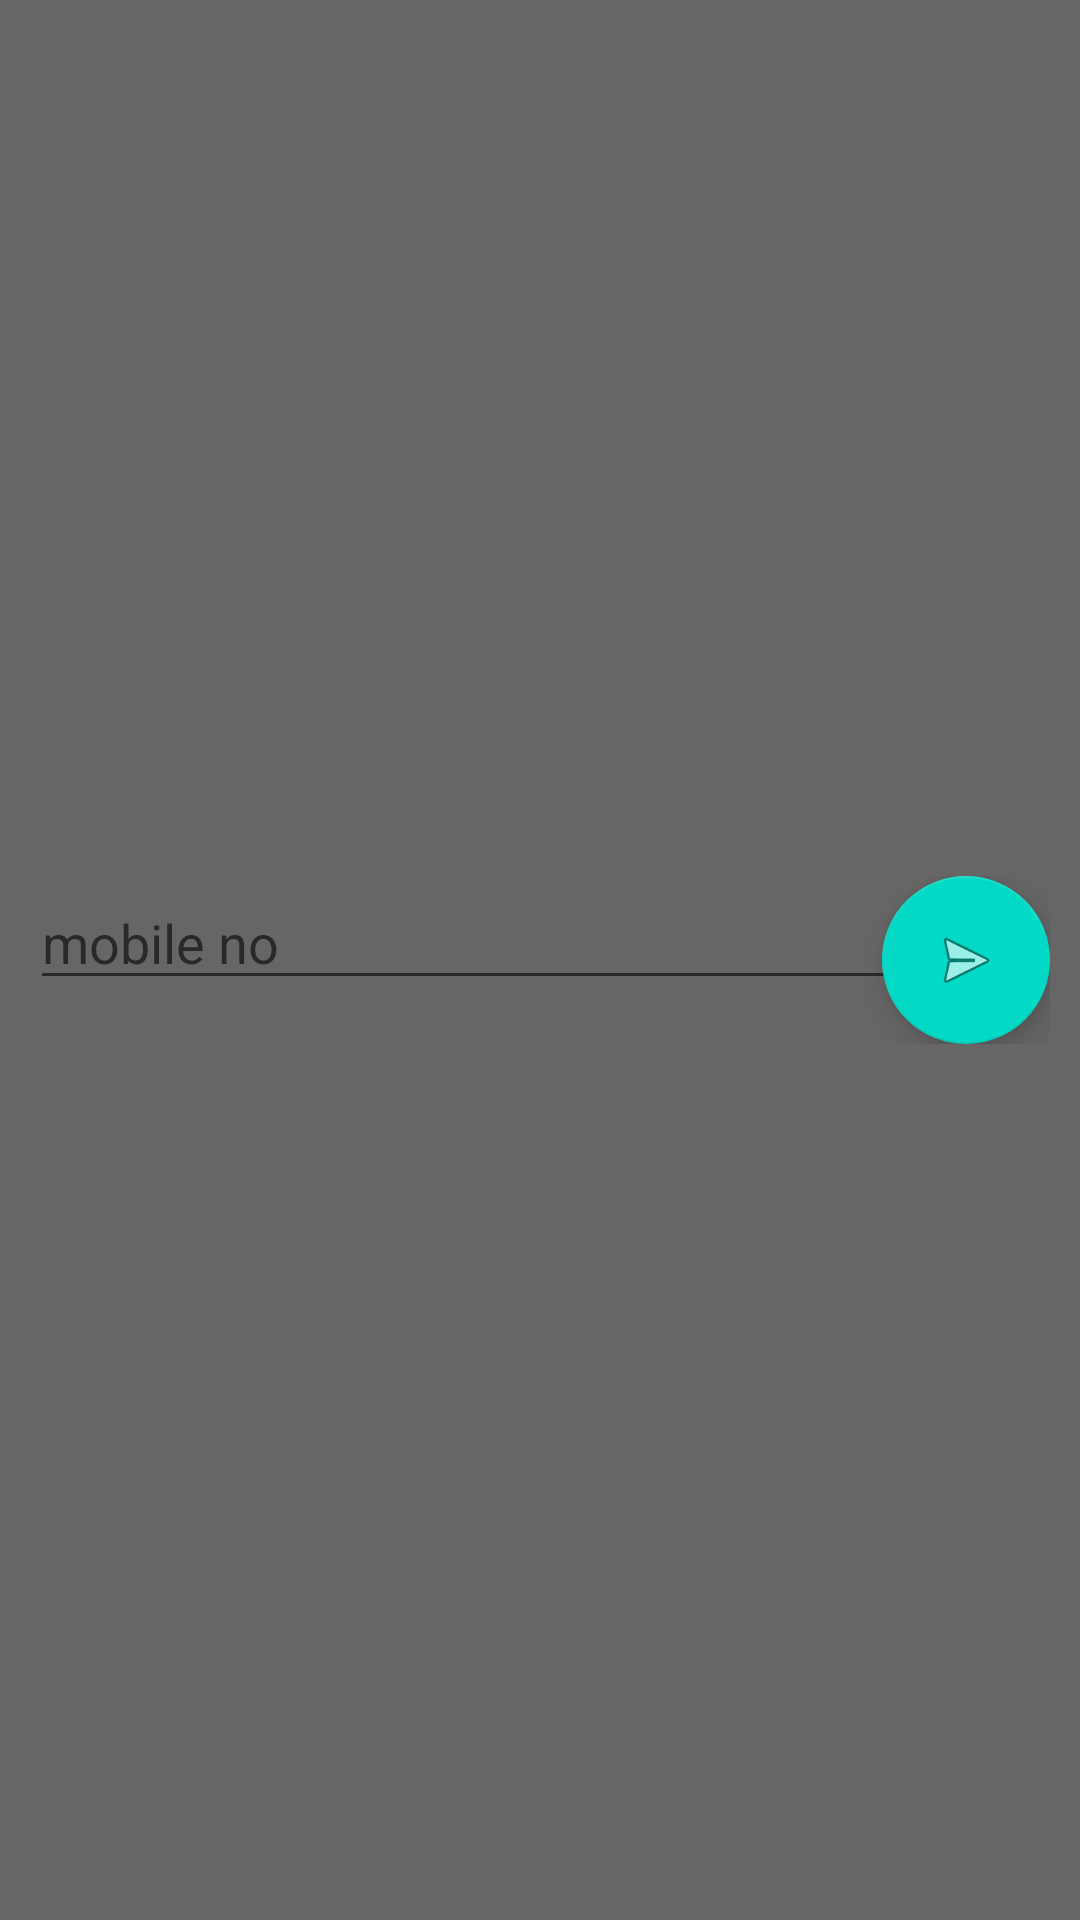

Named icons in this screenshot (1080px x 1920px) and their bounding boxes, (x1, y1, x2, y2):
send: (882, 876, 1050, 1044)
